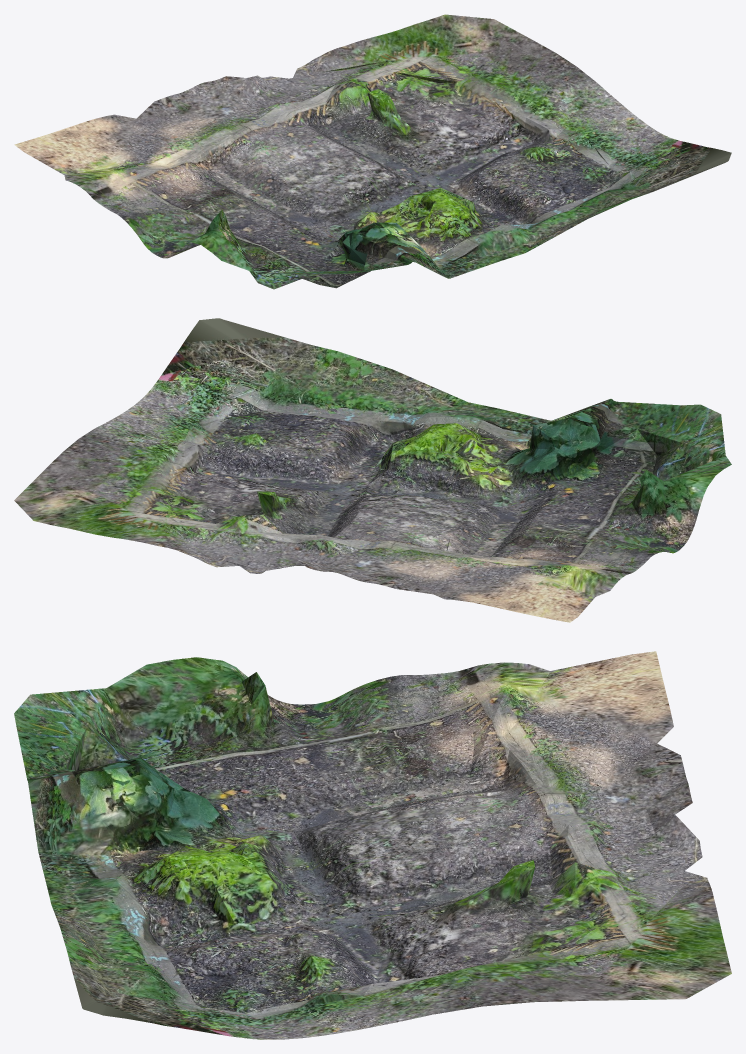
File: garden_939faces.gltf
3 renders of one model, top to bottom at view 1: azimuth 30°, elevation 25°; view 2: azimuth 150°, elevation 25°; view 3: azimuth 270°, elevation 25°, orthographic. The views are drawn at different scales.
Bounding box in the file's own units: 39.44 × 4.53 × 32.34.
1 material, 1 textured.
